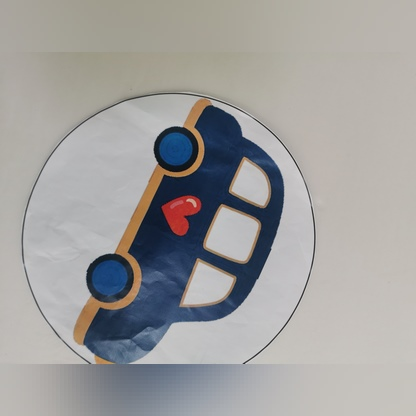car: (88, 86, 288, 367)
